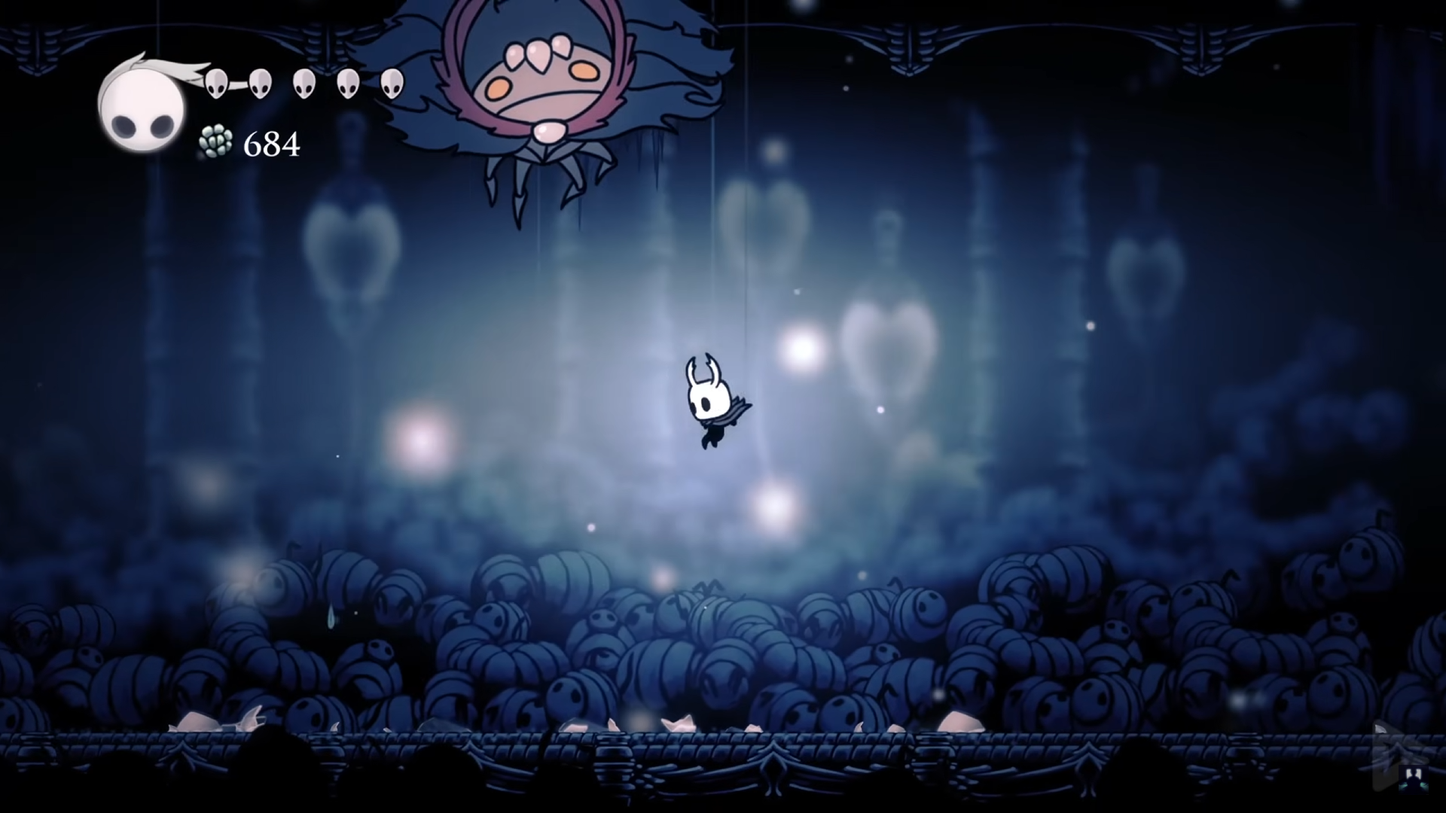HK: (679, 349, 744, 452)
